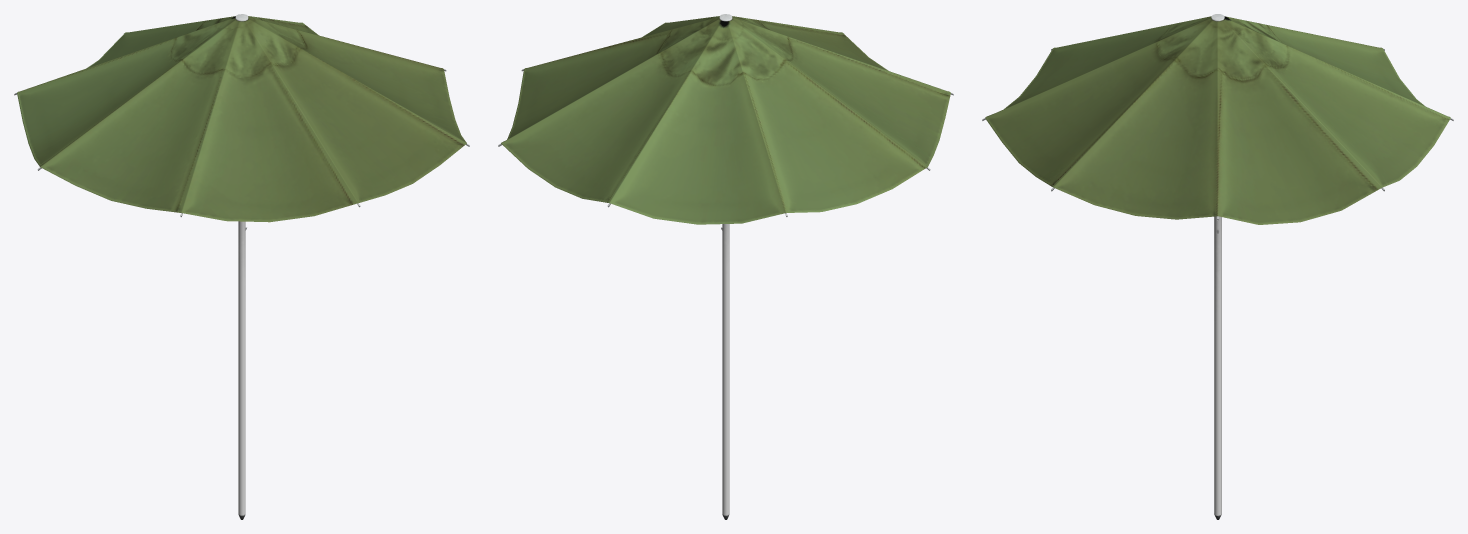
The model's file is Parasol2.fbx.
The picture shows the model from 3 angles, left to right: view 1: azimuth 30°, elevation 25°; view 2: azimuth 150°, elevation 25°; view 3: azimuth 270°, elevation 25°; orthographic projection.
Visible parts, largest first — view 1: Parasol2_LOD0; view 2: Parasol2_LOD0; view 3: Parasol2_LOD0.
Part boxes in pixels (box(x1,y1,x2,y2)): Parasol2_LOD0: box(14, 14, 469, 519); Parasol2_LOD0: box(498, 14, 953, 519); Parasol2_LOD0: box(982, 14, 1453, 519).
Size of what is drawn, in the model's own units: 203 by 239 by 203.
